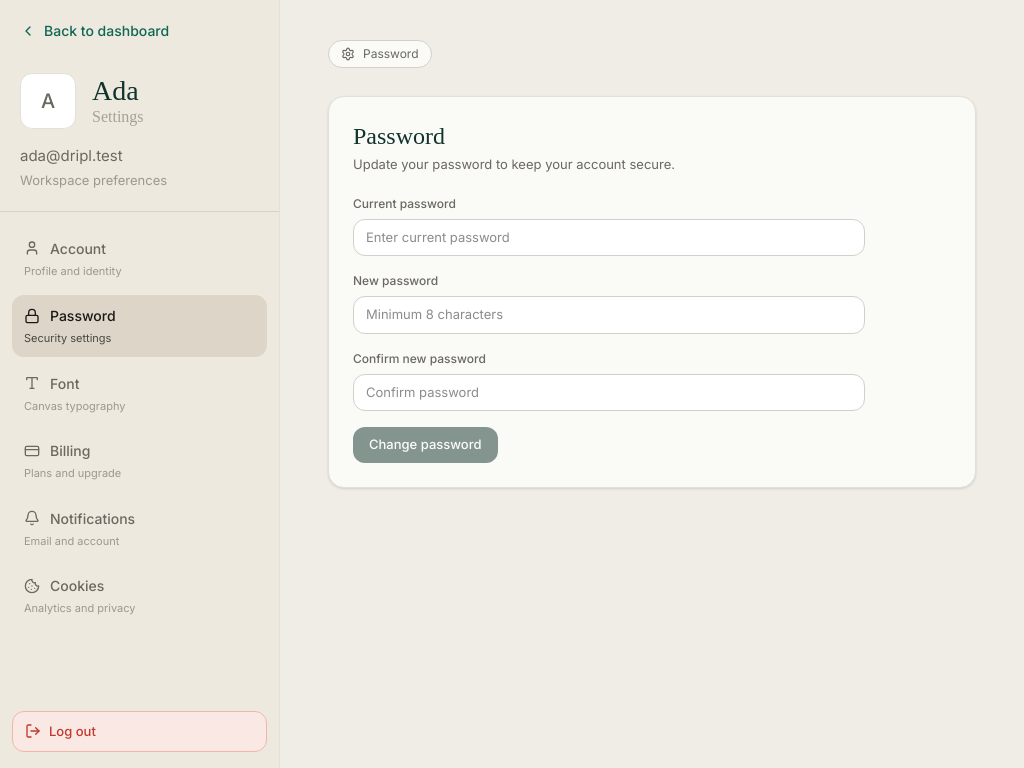
/settings — password › keeps every field on screen when the server refuses the change
Type "hunter2" into the password field with placeholder "Enter current password" at (609, 237), box [353,218,865,256]
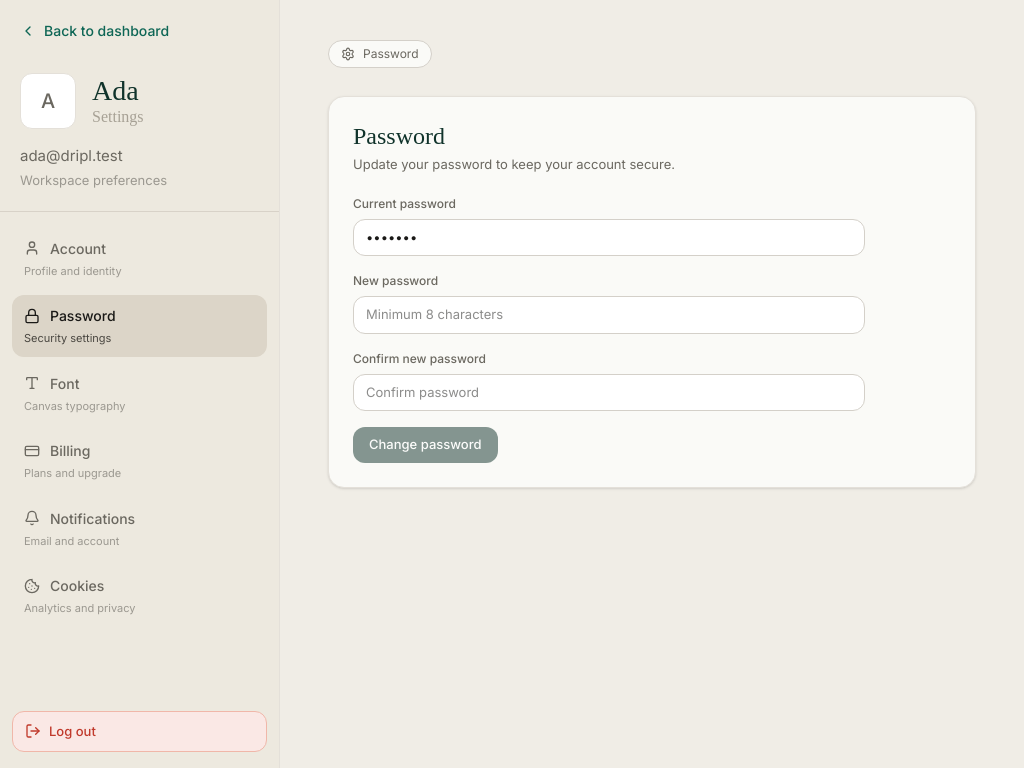
Type "longenough1" into the password field with placeholder "Minimum 8 characters" at (609, 315), box [353,296,865,334]
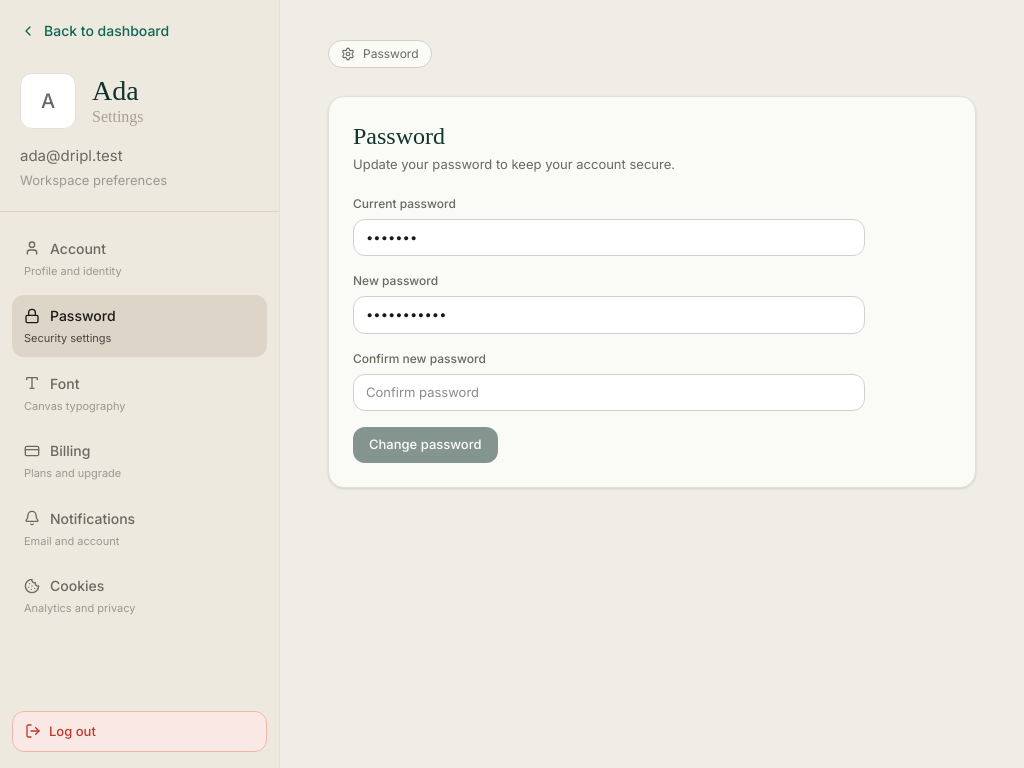
Type "longenough1" into the password field with placeholder "Confirm password" at (609, 392), box [353,374,865,411]
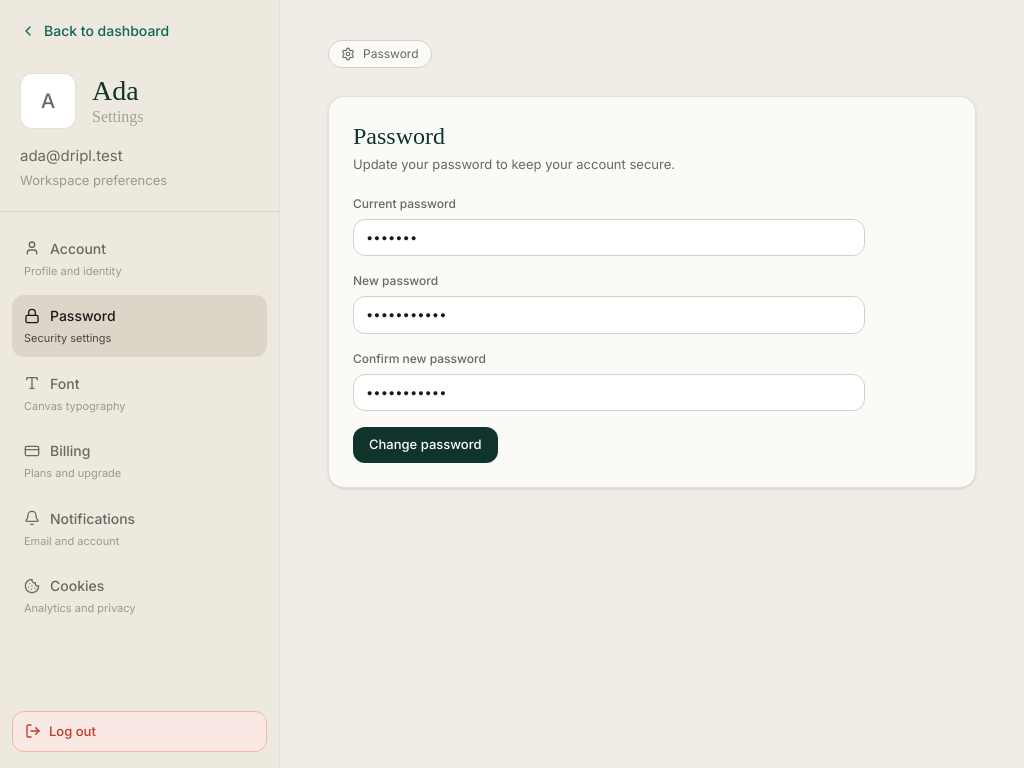
Click the button "Change password" at (425, 445), box [353,427,498,462]
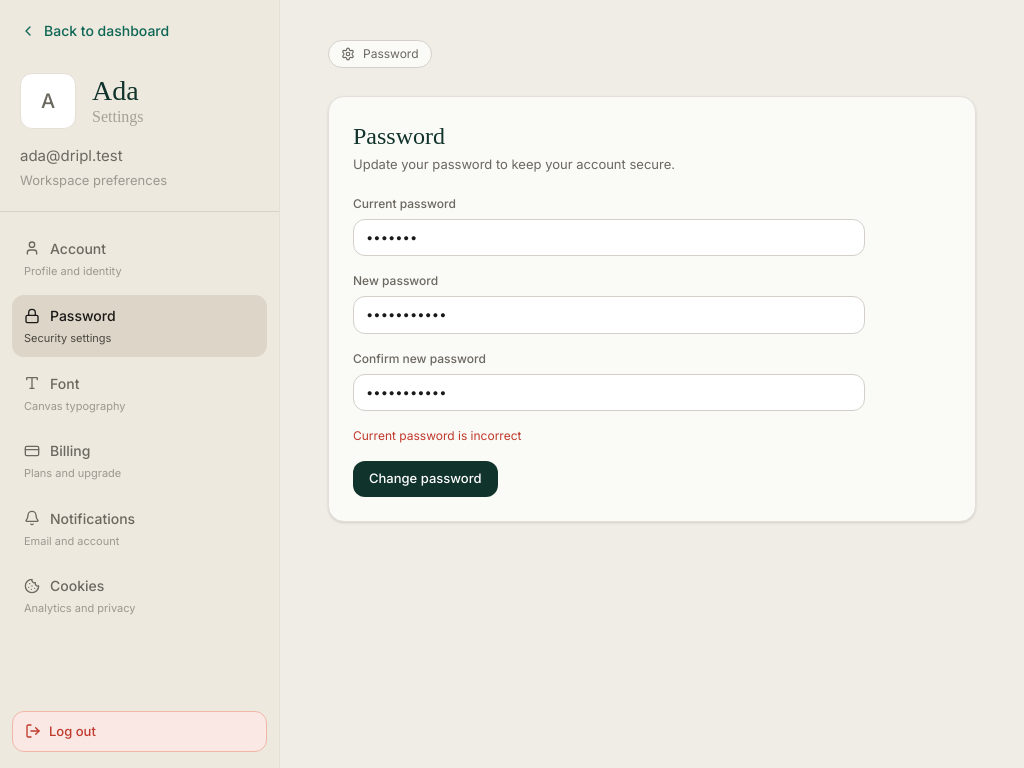
expect the button "Change password" is enabled: met, box [353,461,498,496]
expect the text "Current password is incorrect" is shown: met, box [353,428,522,443]
